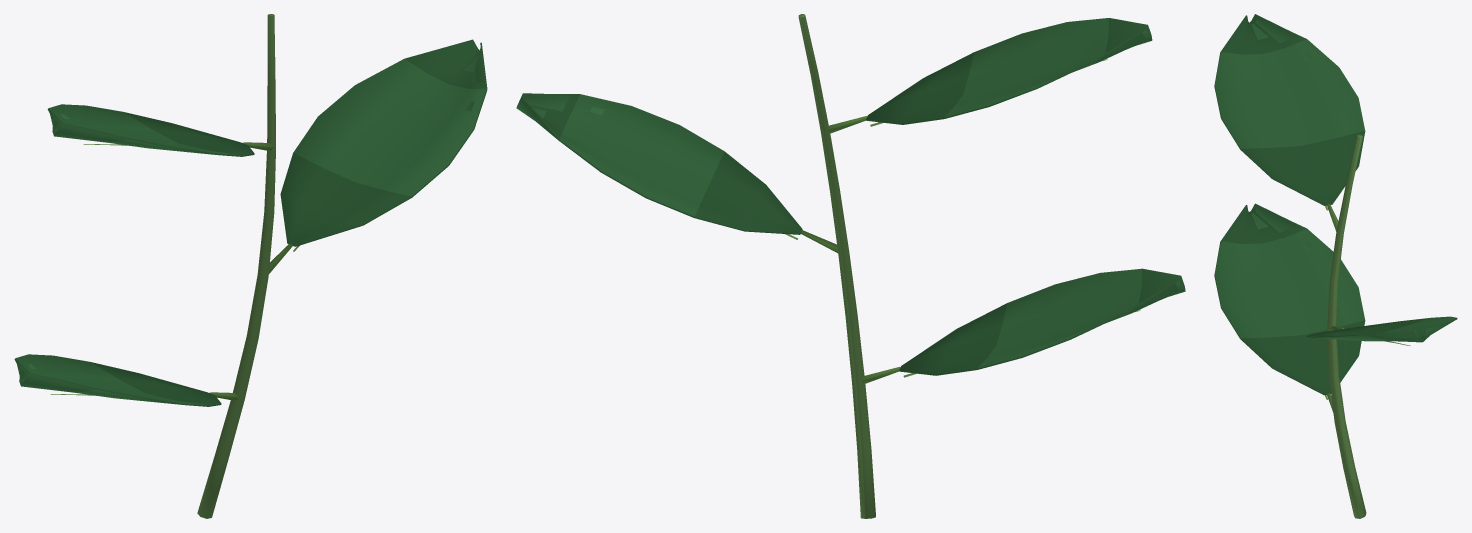
File: garden-orchid-bud-stem-2.glb
3 views of the same model, side by side, from view 1: azimuth 30°, elevation 25°; view 2: azimuth 150°, elevation 25°; view 3: azimuth 270°, elevation 25° (orthographic). The views are drawn at different scales.
Visible parts, largest first — view 1: orchid-bud-stem-2; view 2: orchid-bud-stem-2; view 3: orchid-bud-stem-2.
Part boxes in pixels (left/top/right/bottom): orchid-bud-stem-2: left=14, top=14, right=487, bottom=518; orchid-bud-stem-2: left=516, top=14, right=1185, bottom=518; orchid-bud-stem-2: left=1214, top=14, right=1457, bottom=518.
Bounding box in the file's own units: 0.5766 × 0.4835 × 0.257.
